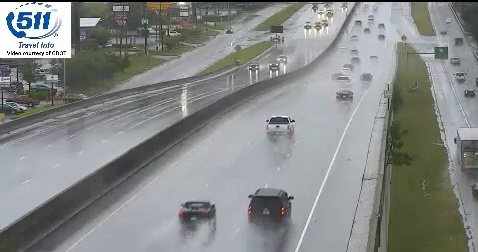car: (248, 189, 291, 224), (179, 201, 216, 224), (265, 115, 293, 135), (336, 89, 353, 102)
